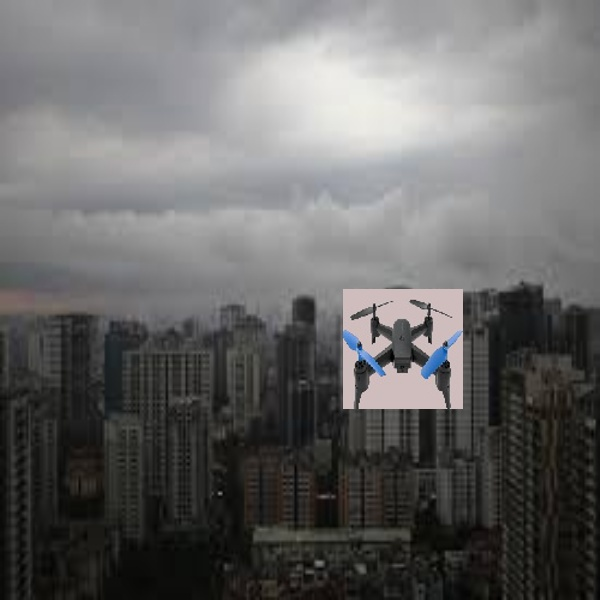drone: (343, 293, 459, 408)
